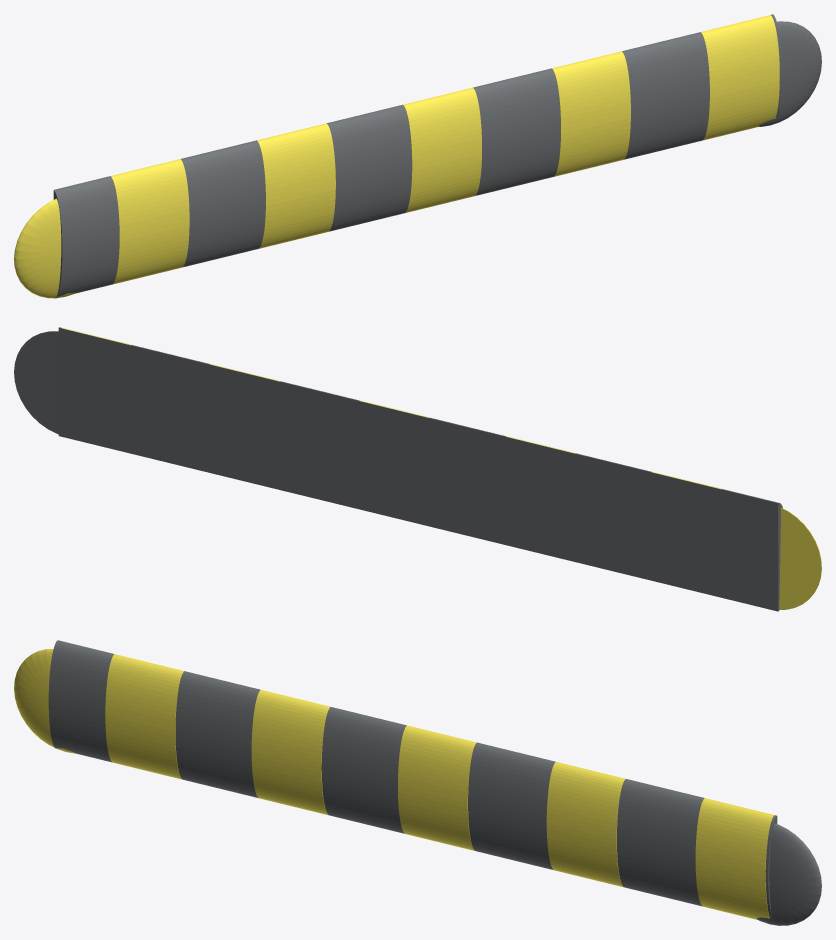
The model's file is Speed bump by Username12 - 8lVa2k0Mo6.glb.
3 renders of one model, top to bottom at view 1: azimuth 30°, elevation 25°; view 2: azimuth 150°, elevation 25°; view 3: azimuth 330°, elevation 25°, orthographic.
Visible parts, largest first — view 1: group_0_2829873, group_0_16768282; view 2: group_0_2829873, group_0_16768282; view 3: group_0_2829873, group_0_16768282.
Boxes of the visible parts, x1=… form: group_0_2829873: x1=53, y1=14, x2=821, y2=298; group_0_16768282: x1=14, y1=15, x2=779, y2=298; group_0_2829873: x1=14, y1=327, x2=782, y2=611; group_0_16768282: x1=62, y1=328, x2=821, y2=609; group_0_2829873: x1=48, y1=640, x2=821, y2=925; group_0_16768282: x1=14, y1=649, x2=774, y2=919.
Bounding box in the file's own units: 156 × 20.06 × 3.1.
